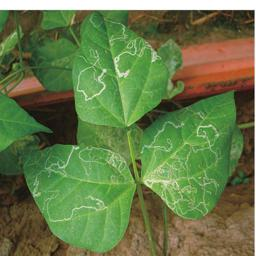liriomyza: (139, 109, 220, 221), (108, 18, 161, 79), (32, 143, 77, 197), (42, 189, 106, 223), (78, 145, 133, 183), (73, 47, 107, 102)
